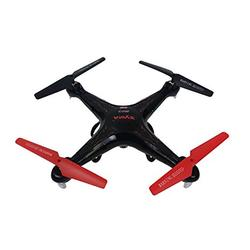drone: (13, 56, 232, 201)
